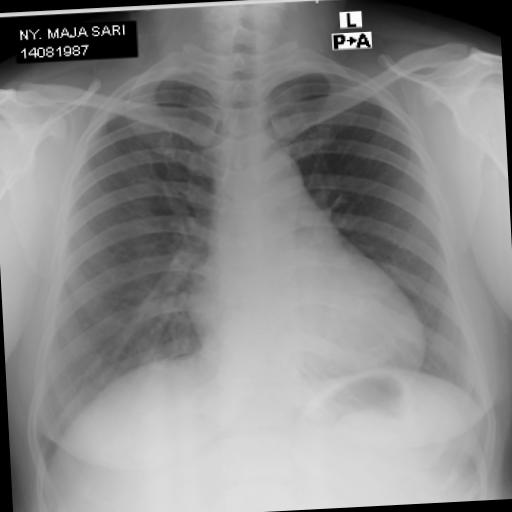kardiomegali: (7, 42, 512, 487)
